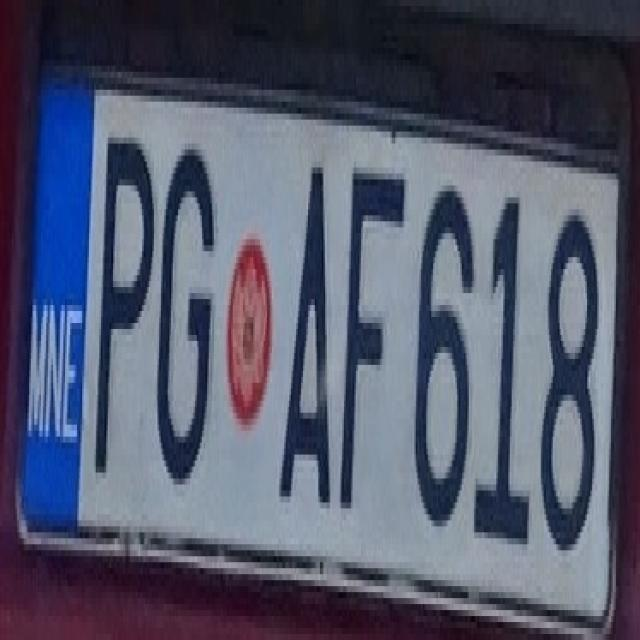1: (466, 173, 534, 544)
6: (408, 168, 478, 532)
8: (536, 192, 604, 550)
A: (270, 138, 339, 514)
F: (330, 144, 406, 520)
G: (150, 132, 222, 484)
P: (86, 108, 158, 478)
